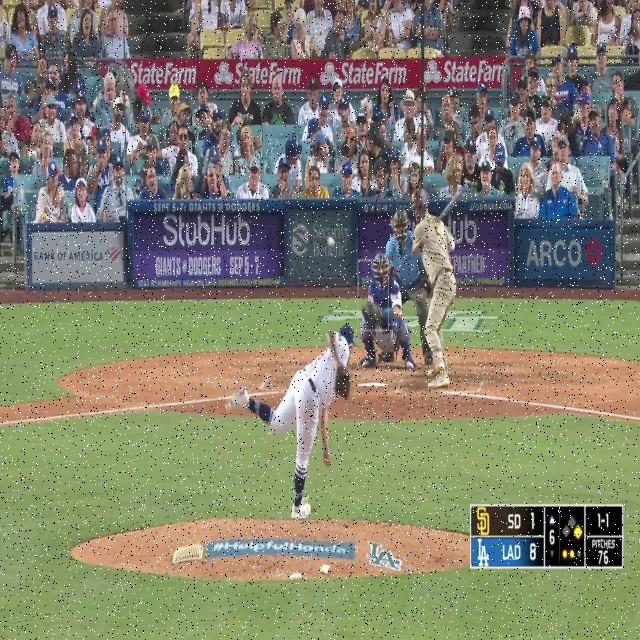baseball: (327, 236, 335, 248)
